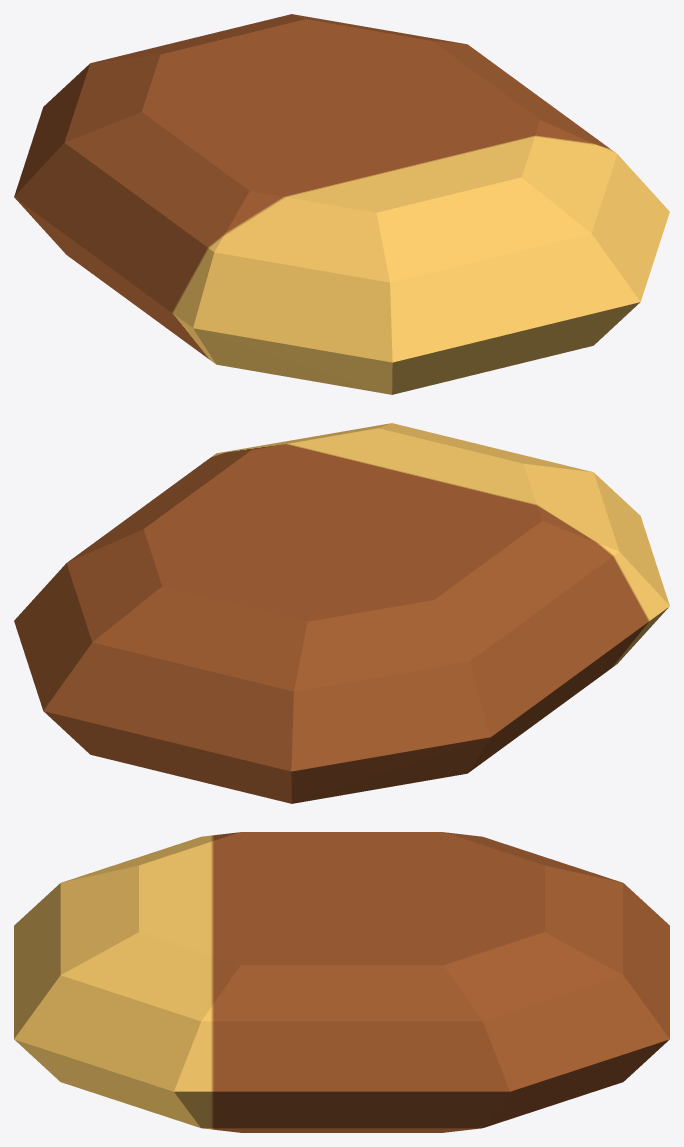
File: vGem1.fbx
3 views of the same model, one above another, from view 1: azimuth 30°, elevation 25°; view 2: azimuth 150°, elevation 25°; view 3: azimuth 270°, elevation 25° (orthographic). The views are drawn at different scales.
Visible parts, largest first — view 1: vGem1; view 2: vGem1; view 3: vGem1.
Boxes of the visible parts, x1,y1,x2,y2 form: vGem1: (14, 14, 669, 394); vGem1: (14, 423, 669, 803); vGem1: (14, 832, 669, 1132).
Size of the model in its own units: 0.7642 by 0.2717 by 0.9693.
